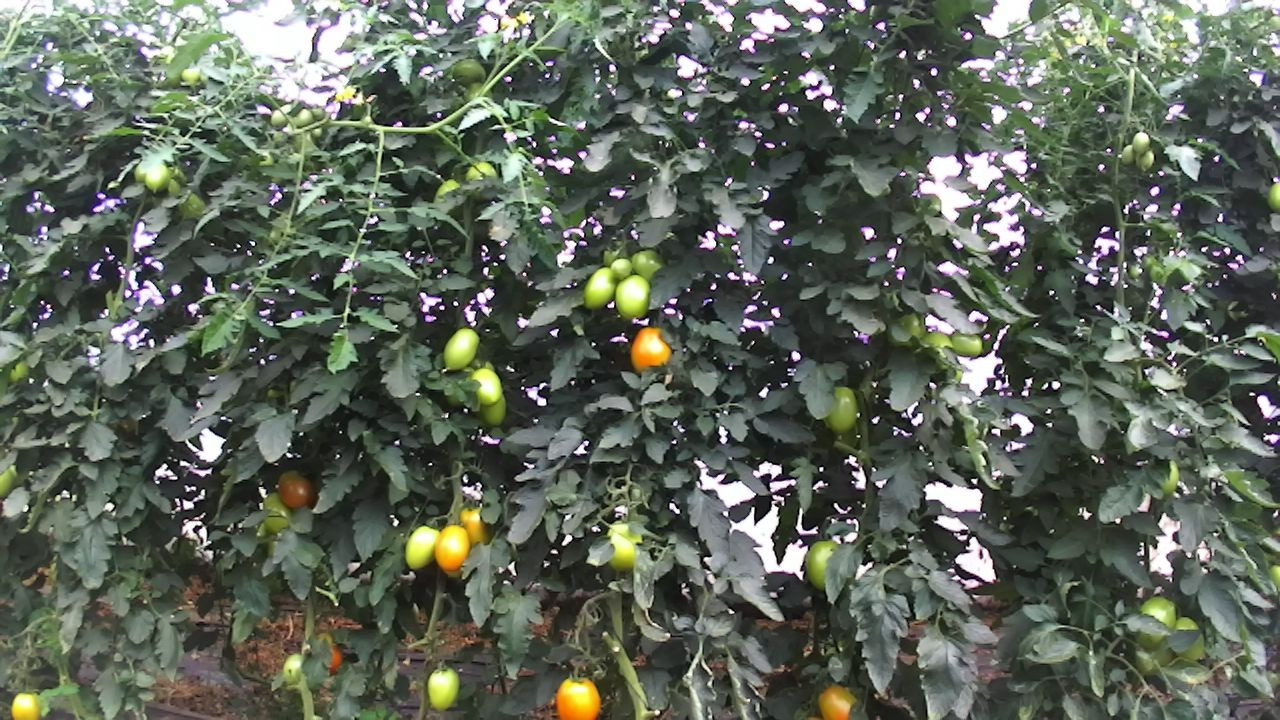tomato: (553, 672, 603, 720), (628, 324, 675, 375), (803, 536, 842, 593), (432, 520, 472, 575), (439, 325, 482, 375), (812, 678, 862, 720), (824, 382, 860, 438), (403, 524, 442, 573), (615, 273, 652, 323), (425, 664, 461, 715), (580, 264, 618, 312), (276, 465, 317, 509), (468, 366, 504, 407), (950, 327, 984, 360), (9, 689, 43, 720), (142, 161, 171, 194), (608, 255, 631, 281), (1118, 143, 1138, 167), (1135, 148, 1155, 171), (1131, 131, 1150, 154)
